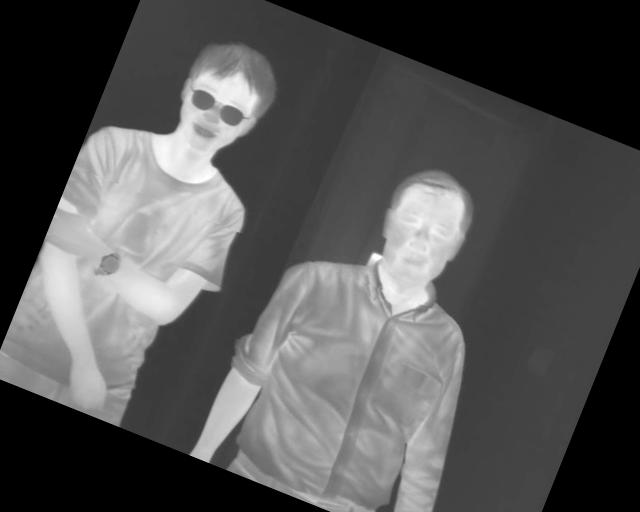face: (360, 155, 486, 305), (161, 29, 286, 171)
